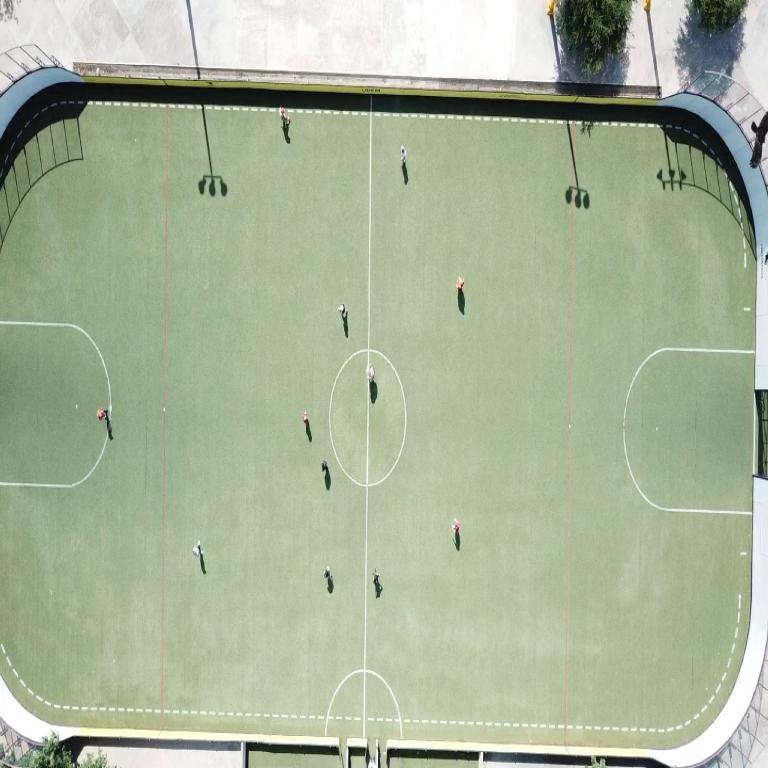AC: (623, 347, 754, 515), (0, 320, 112, 410)
B: (287, 116, 290, 124)
MC: (362, 388, 370, 738)
P: (98, 408, 113, 440), (280, 107, 290, 127), (367, 363, 374, 383), (193, 541, 202, 556), (338, 303, 347, 318), (452, 519, 460, 535), (324, 567, 332, 581), (457, 277, 464, 292), (374, 570, 380, 587), (401, 146, 406, 165), (302, 411, 308, 425), (321, 460, 328, 472)
